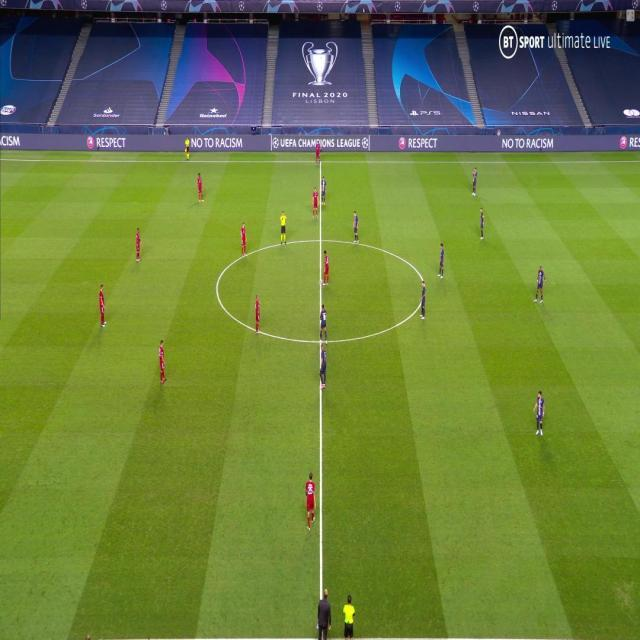player: (318, 301, 328, 392), (304, 472, 317, 533), (533, 389, 546, 438), (533, 265, 547, 304), (158, 338, 169, 385), (98, 284, 108, 330), (319, 304, 328, 349), (253, 294, 262, 334), (239, 221, 248, 259), (134, 226, 143, 264), (419, 279, 427, 321), (437, 242, 446, 279), (322, 250, 331, 287), (470, 165, 479, 197), (352, 209, 360, 245), (478, 206, 486, 242), (196, 171, 204, 204), (312, 185, 319, 219), (314, 139, 322, 168), (321, 174, 327, 208)
referee: (343, 594, 356, 640), (279, 209, 288, 249), (184, 135, 191, 161)
